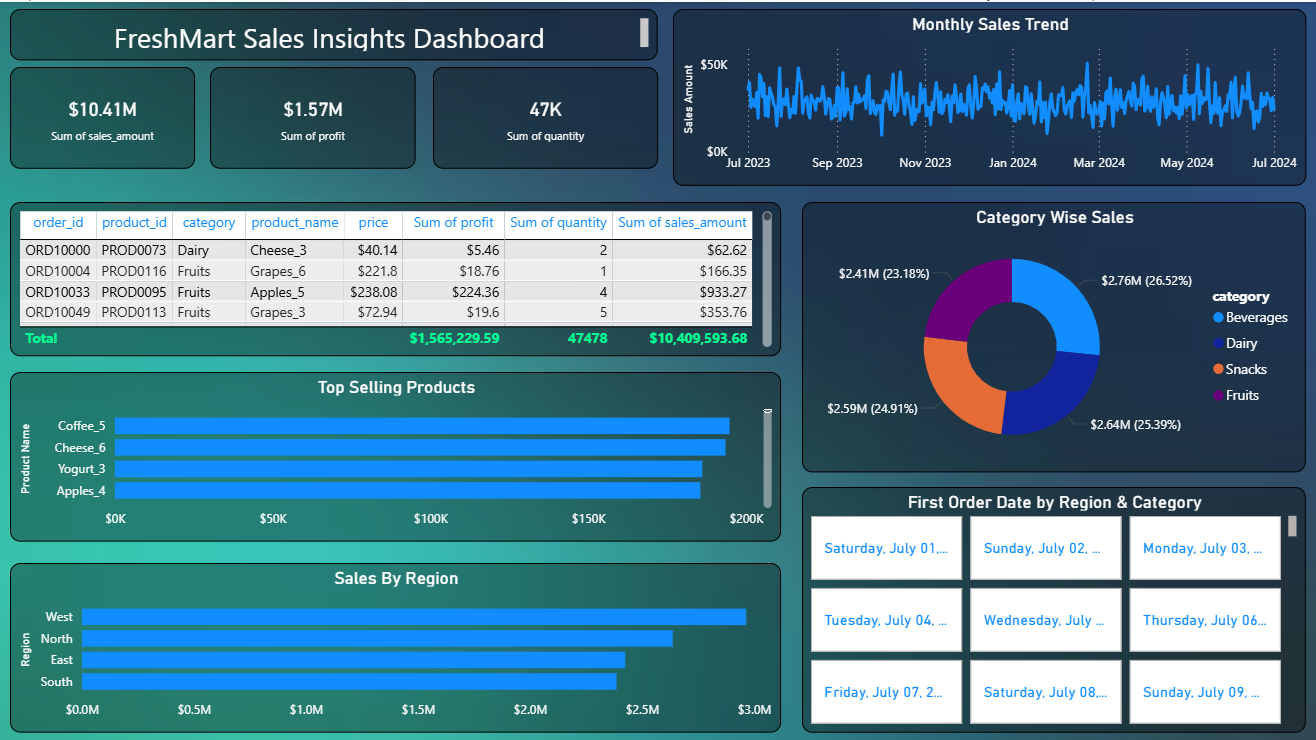

This screenshot's page, from the dashboard's own definition file:
{"tool":"powerbi","page":{"name":"Page 1","canvas":[1280,720],"ordinal":0},"visuals":[{"type":"textbox","box":[9.7,6.8,630.3,49.6],"z":0},{"type":"lineChart","title":"Monthly Sales Trend","fields":{"Y":["Sum(Sales.sales_amount)"],"Category":["Sales.order_date.Variation.Date Hierarchy.Year","Sales.order_date.Variation.Date Hierarchy.Quarter","Sales.order_date.Variation.Date Hierarchy.Month","Sales.order_date.Variation.Date Hierarchy.Day"]},"box":[654.6,6.8,615.7,172.2],"z":1000},{"type":"barChart","title":"Top Selling Products","fields":{"Category":["Products.product_name"],"Y":["Sum(Sales.sales_amount)"]},"box":[9.7,359.9,749.9,165.3],"z":2000},{"type":"donutChart","title":"Category Wise Sales","fields":{"Category":["Products.category"],"Y":["Sum(Sales.sales_amount)"]},"box":[780.1,194.5,490.2,262.6],"z":3000},{"type":"clusteredBarChart","title":"Sales By Region","fields":{"Category":["Customers.region"],"Y":["Sum(Sales.sales_amount)"]},"box":[9.7,545.7,749.9,165.3],"z":4000},{"type":"tableEx","fields":{"Values":["Sales.order_id","Sales.product_id","Products.category","Products.product_name","Products.price","Sum(Sales.profit)","Sum(Sales.quantity)","Sum(Sales.sales_amount)"]},"box":[9.7,194.5,749.9,149.8],"z":5000},{"type":"advancedSlicerVisual","title":"First Order Date by Region & Category","fields":{"Values":["Sales.order_date"]},"box":[780.1,471.7,490.2,239.3],"z":6000},{"type":"card","fields":{"Values":["Sum(Sales.sales_amount)"]},"box":[9.7,63.2,179.9,99.2],"z":7000},{"type":"card","fields":{"Values":["Sum(Sales.profit)"]},"box":[204.3,63.2,200.4,99.2],"z":8000},{"type":"card","fields":{"Values":["Sum(Sales.quantity)"]},"box":[421.2,63.2,218.8,99.2],"z":9000}]}

Visuals, with their boxes in screenshot pixels (x1, y1, x2, y2), scaled from the page's 1280x720 canvas onto the 1316x740 screenshot:
textbox: box=[10, 7, 658, 58]
"Monthly Sales Trend" lineChart: box=[673, 7, 1306, 184]
"Top Selling Products" barChart: box=[10, 370, 781, 540]
"Category Wise Sales" donutChart: box=[802, 200, 1306, 470]
"Sales By Region" clusteredBarChart: box=[10, 561, 781, 731]
tableEx - Sales.order_id x Sales.product_id: box=[10, 200, 781, 354]
"First Order Date by Region & Category" advancedSlicerVisual: box=[802, 485, 1306, 731]
card - Sum(Sales.sales_amount): box=[10, 65, 195, 167]
card - Sum(Sales.profit): box=[210, 65, 416, 167]
card - Sum(Sales.quantity): box=[433, 65, 658, 167]
